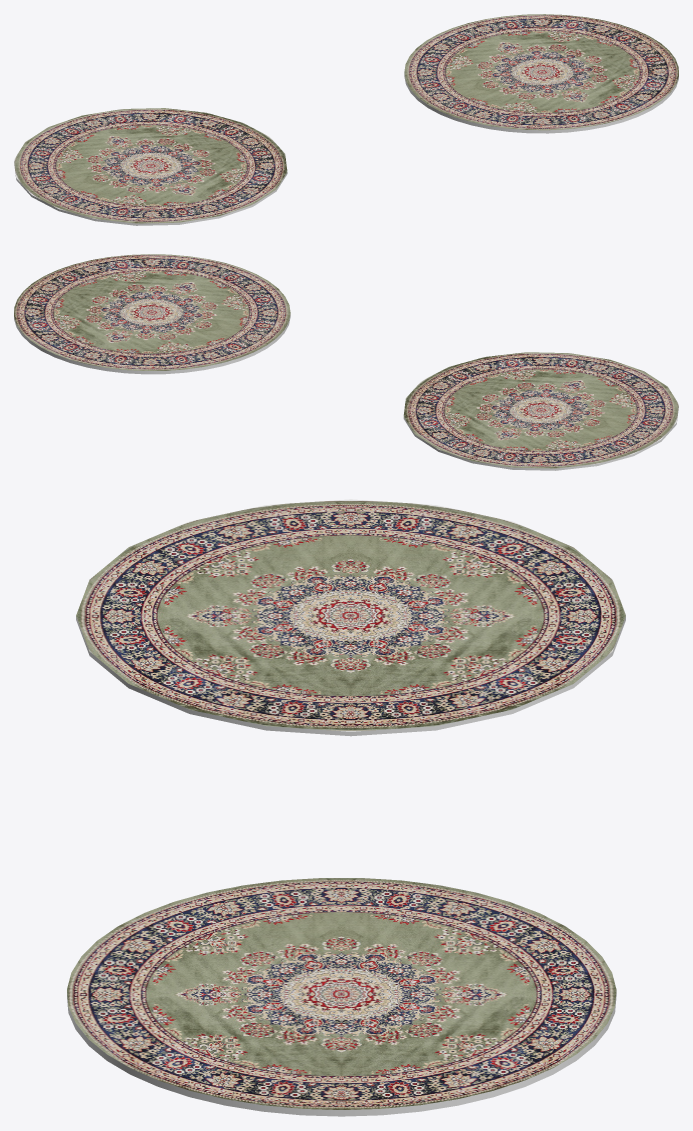
File: Carpet.fbx
3 renders of one model, top to bottom at view 1: azimuth 30°, elevation 25°; view 2: azimuth 150°, elevation 25°; view 3: azimuth 270°, elevation 25°, orthographic. The views are drawn at different scales.
Parts seen in each view (by area): view 1: Carpet_High, Carpet_Low; view 2: Carpet_High, Carpet_Low; view 3: Carpet_High, Carpet_Low.
Part boxes in pixels (x1,y1,x2,y2): Carpet_High: (404,14,678,133); Carpet_Low: (14,108,287,225); Carpet_High: (14,254,290,374); Carpet_Low: (403,352,678,470); Carpet_High: (67,878,616,1116); Carpet_Low: (76,499,625,736).
Bounding box in the file's own units: 5.26 × 0.0261 × 2.03.
